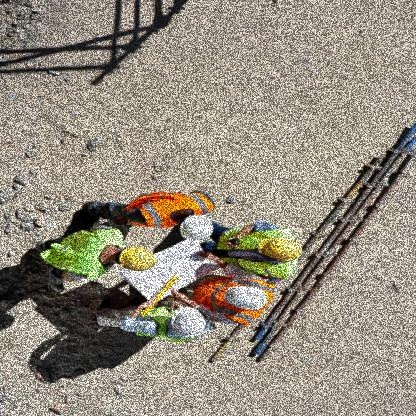vest: (214, 224, 307, 280), (35, 225, 126, 281), (193, 274, 282, 327), (120, 187, 226, 231)
white: (168, 306, 209, 341), (222, 286, 269, 315), (178, 212, 218, 244)
yellow: (255, 236, 305, 264), (118, 244, 160, 274)
